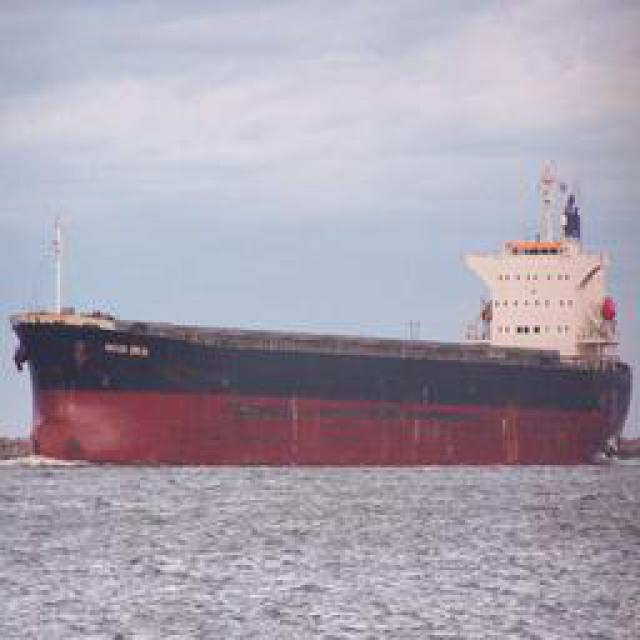Ship: (17, 304, 635, 469)
